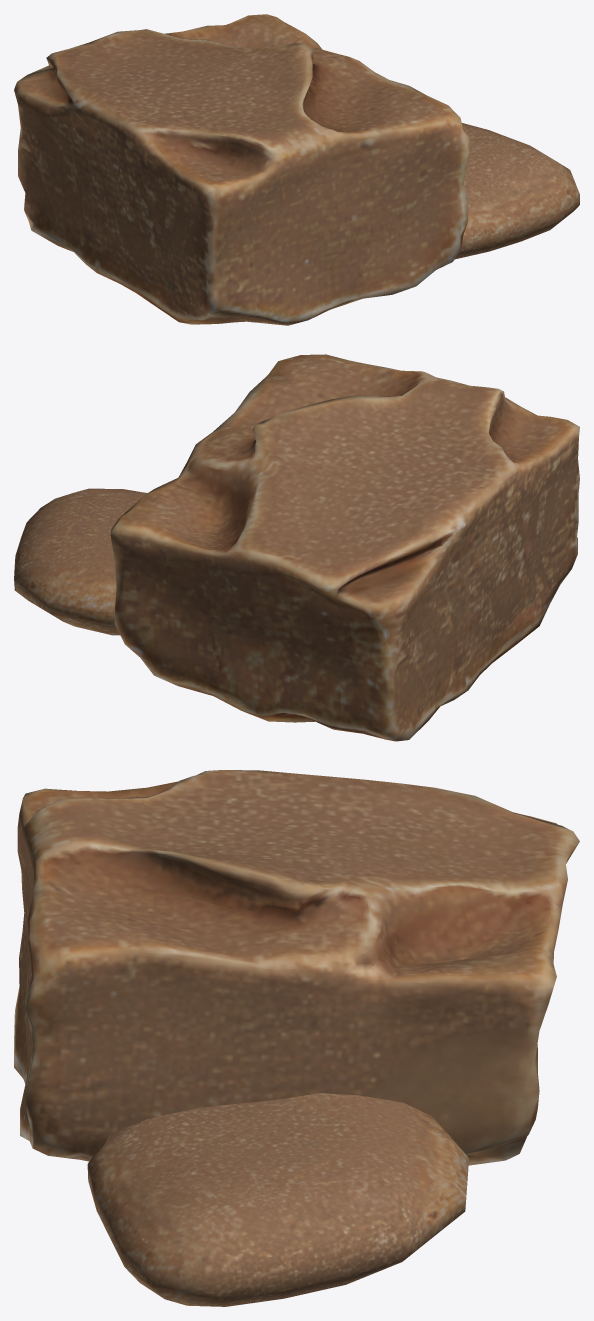
File: desert_pebble_pair.glb
3 views of the same model, one above another, from view 1: azimuth 30°, elevation 25°; view 2: azimuth 150°, elevation 25°; view 3: azimuth 270°, elevation 25° (orthographic). The views are drawn at different scales.
Parts seen in each view (by area): view 1: desert_pebble_pair; view 2: desert_pebble_pair; view 3: desert_pebble_pair.
Boxes of the visible parts, left/top/right/bottom form: desert_pebble_pair: left=14, top=14, right=579, bottom=325; desert_pebble_pair: left=14, top=354, right=579, bottom=741; desert_pebble_pair: left=14, top=770, right=579, bottom=1306.
Size of the model in its own units: 2.04 by 0.8987 by 1.58.
2 materials, 2 textured.
